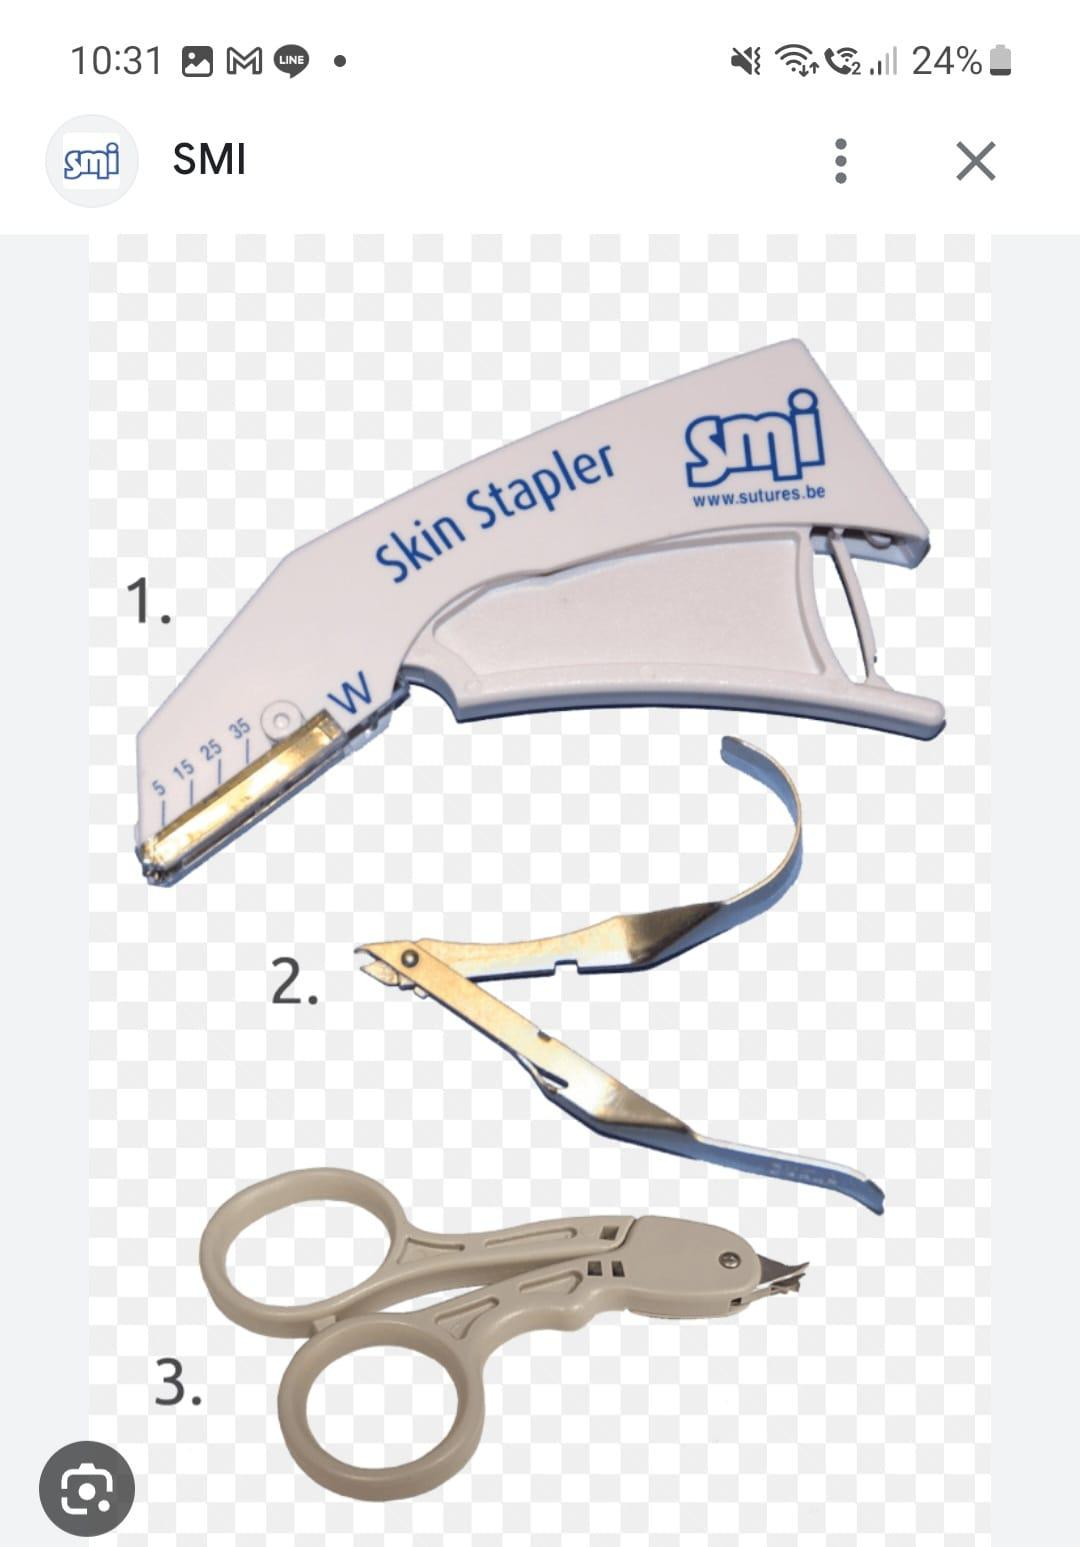Skin Stapler: (133, 333, 947, 892)
Stapler Remover: (348, 723, 915, 1220), (177, 1147, 820, 1507)
